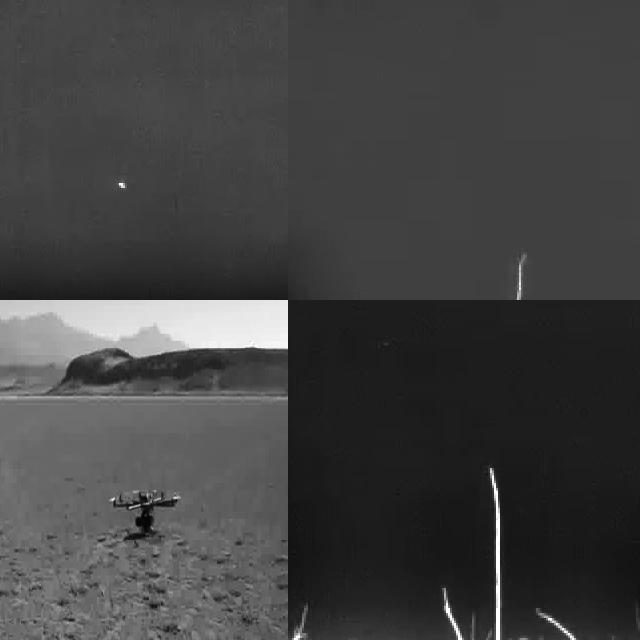0: (380, 334, 400, 360)
1: (114, 174, 140, 202)
drone: (109, 485, 180, 531)
